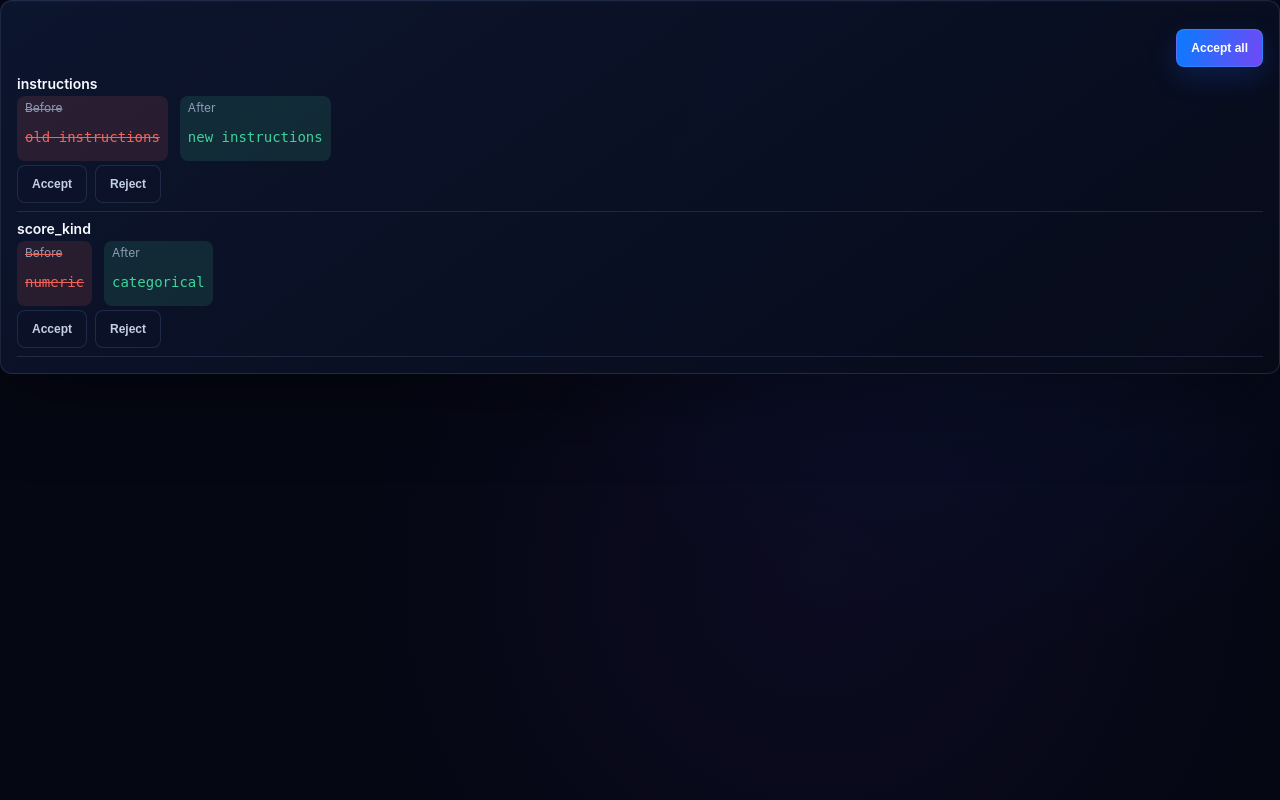
Test: ConfigDiff › Accept applies one field's new value
The width and height of the screenshot is (1280, 800).
Click the button with aria-label "Accept instructions" at (52, 184), box [17,165,87,203]
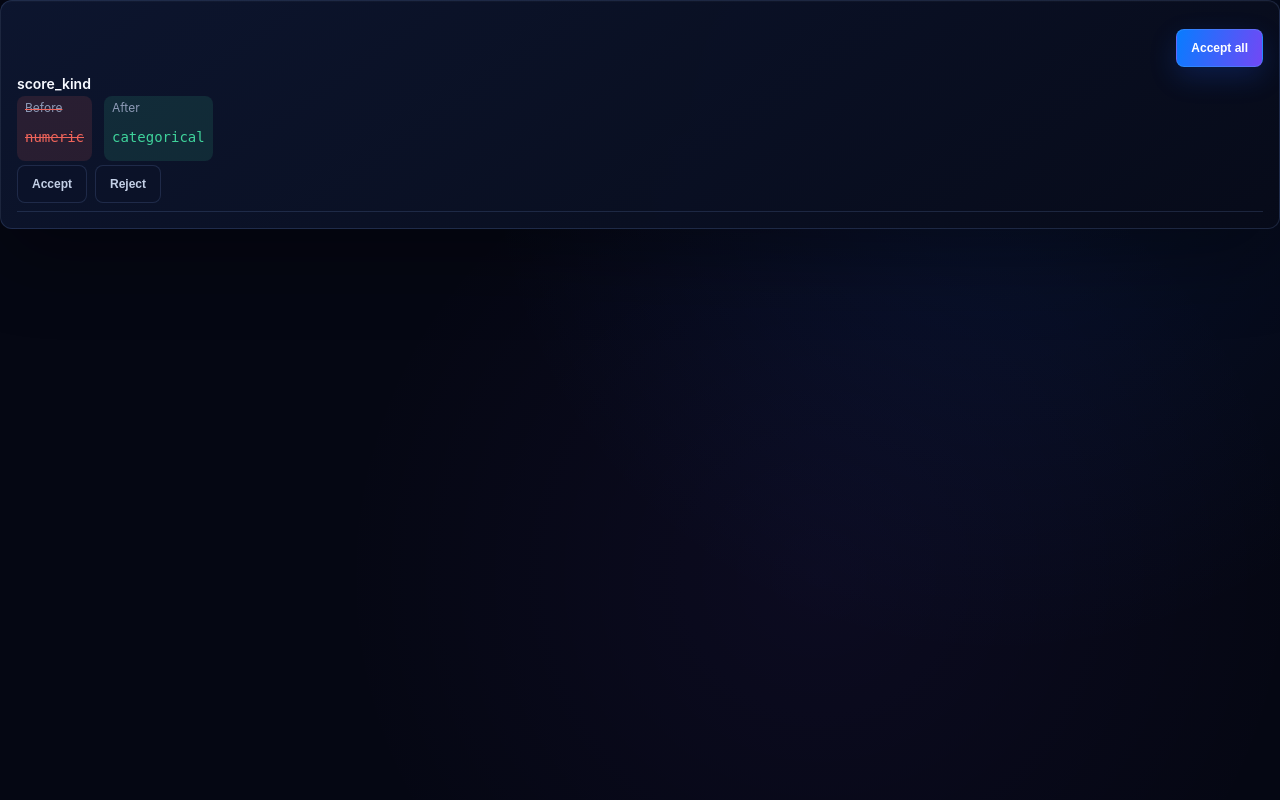
Expected: the text "score_kind" is shown, [17,75,91,92]
Now the text "instructions" is gone
